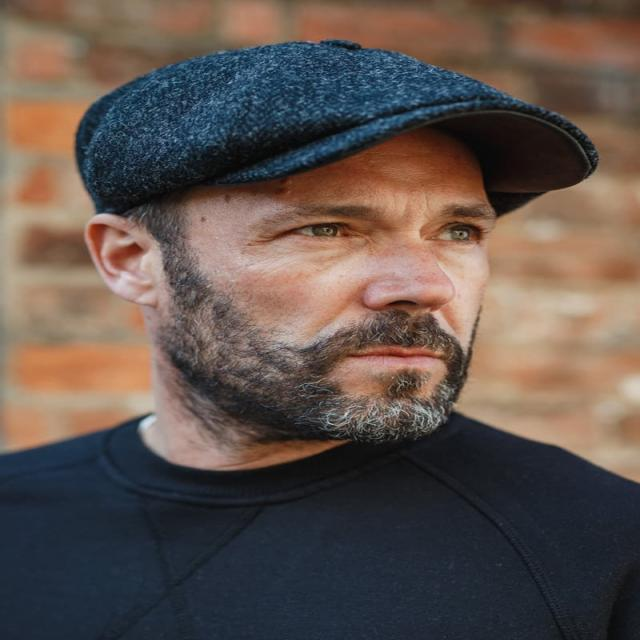hat: (37, 28, 624, 214)
